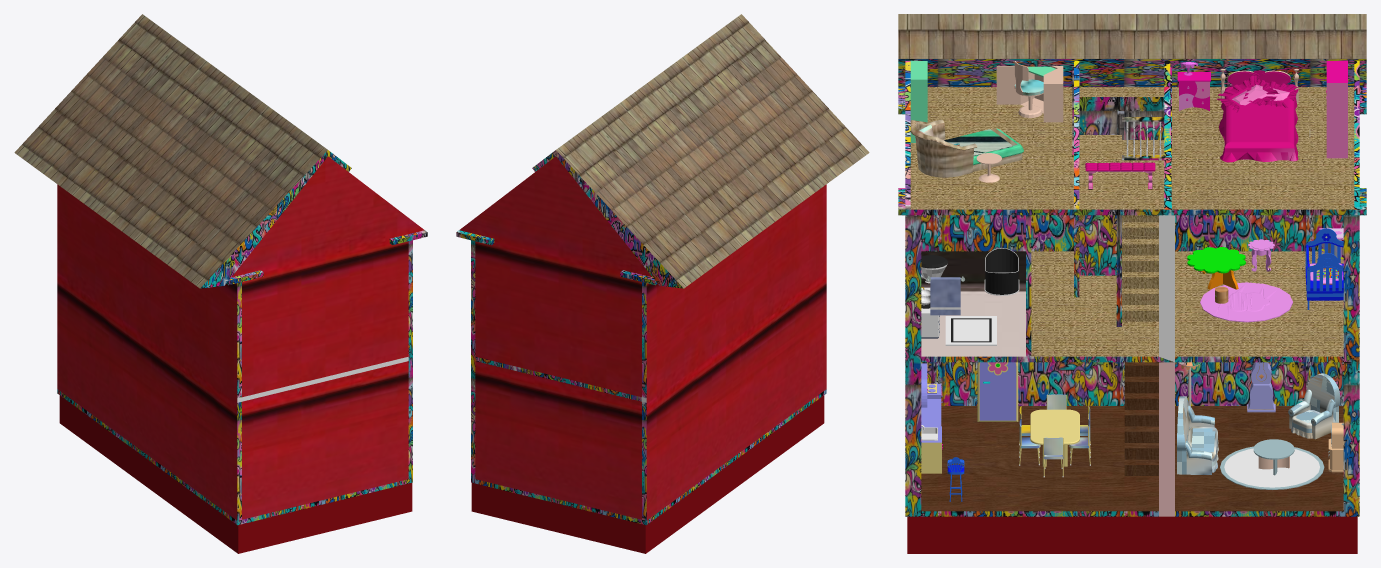
File: dollhouse2 .glb
3 views of the same model, side by side, from view 1: azimuth 30°, elevation 25°; view 2: azimuth 150°, elevation 25°; view 3: azimuth 270°, elevation 25° (orthographic). The views are drawn at different scales.
Visible parts, largest first — view 1: _C-dollhouse shell#2 (Loose Mesh); view 2: _C-dollhouse shell#2 (Loose Mesh); view 3: _C-dollhouse shell#2 (Loose Mesh), C-2nd floor stairs 45 DEGREES, G-Object.075, C-1st floor stairs 45 degrees#1, C-Component#73, C-Component#68, C-cosy4, G-Object.101, G-Object.063, C-Component#67, C-cosy2, C-Component#64 (+15 smaller).
Part boxes in pixels (left/top/right/bottom): _C-dollhouse shell#2 (Loose Mesh): left=14, top=14, right=427, bottom=553; _C-dollhouse shell#2 (Loose Mesh): left=456, top=14, right=869, bottom=553; _C-dollhouse shell#2 (Loose Mesh): left=898, top=14, right=1366, bottom=553; C-2nd floor stairs 45 DEGREES: left=1122, top=140, right=1164, bottom=321; G-Object.075: left=1219, top=86, right=1298, bottom=162; C-1st floor stairs 45 degrees#1: left=1124, top=362, right=1158, bottom=475; C-Component#73: left=1220, top=446, right=1324, bottom=489; C-Component#68: left=1200, top=282, right=1292, bottom=322; C-cosy4: left=1177, top=396, right=1218, bottom=474; G-Object.101: left=977, top=362, right=1018, bottom=421; G-Object.063: left=910, top=119, right=977, bottom=177; C-Component#67: left=996, top=66, right=1063, bottom=122; C-cosy2: left=1288, top=373, right=1340, bottom=439; C-Component#64: left=1326, top=61, right=1347, bottom=158.
Size of the model in its own units: 0.5931 by 0.9599 by 0.8382.
90 materials, 31 textured.
